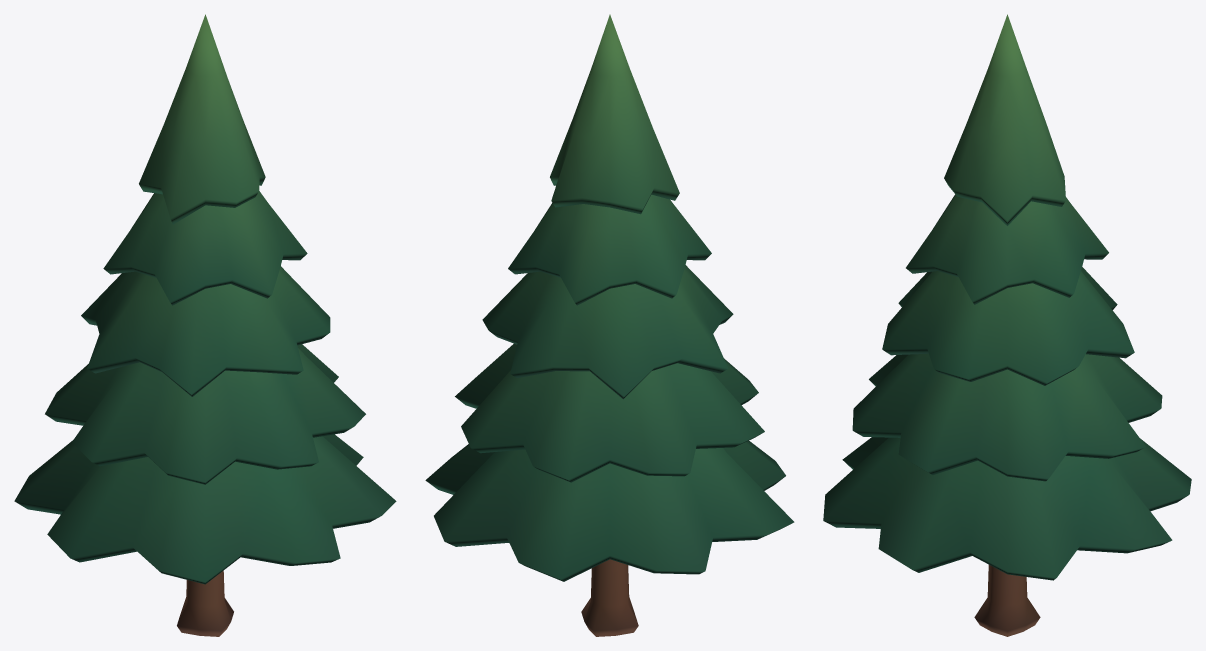
File: pine_1.glb
The picture shows the model from 3 angles, left to right: view 1: azimuth 30°, elevation 25°; view 2: azimuth 150°, elevation 25°; view 3: azimuth 270°, elevation 25°; orthographic projection.
Parts seen in each view (by area): view 1: pine_1; view 2: pine_1; view 3: pine_1.
Part boxes in pixels (<box>): pine_1: <box>14,14,396,636</box>; pine_1: <box>425,14,794,636</box>; pine_1: <box>823,14,1191,636</box>.
Size of the model in its own units: 5.01 by 9.17 by 5.01.
